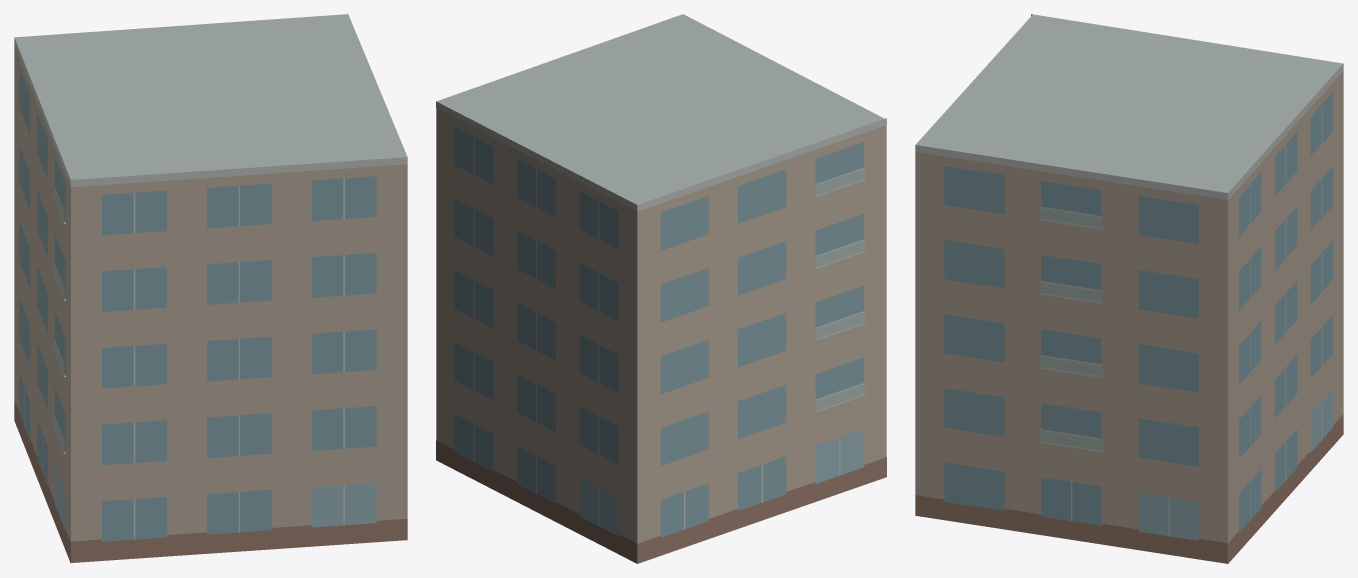
File: survey-upis-32990665.glb
The picture shows the model from 3 angles, left to right: view 1: azimuth 30°, elevation 25°; view 2: azimuth 150°, elevation 25°; view 3: azimuth 270°, elevation 25°; orthographic projection. The views are drawn at different scales.
Parts seen in each view (by area): view 1: survey-upis-32990665.tmp; view 2: survey-upis-32990665.tmp; view 3: survey-upis-32990665.tmp.
Part boxes in pixels (x1,y1,x2,y2): survey-upis-32990665.tmp: (14,14,407,563); survey-upis-32990665.tmp: (436,14,886,563); survey-upis-32990665.tmp: (915,14,1343,563).
Size of the model in its own units: 13.48 by 13 by 13.62.
